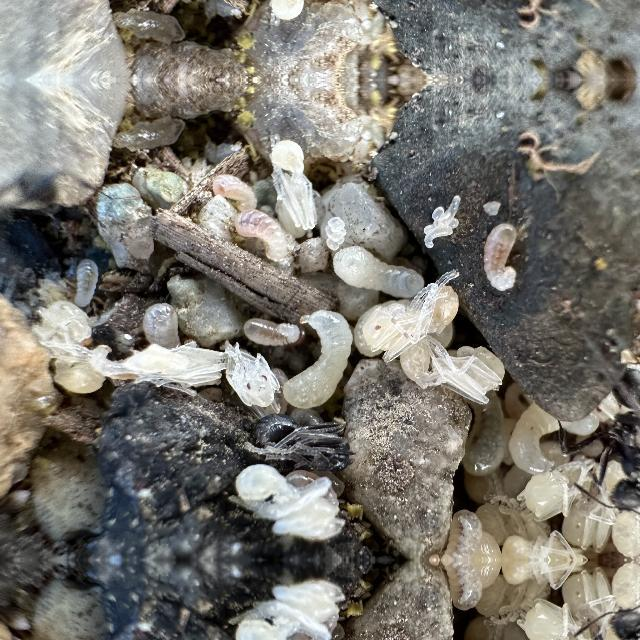Apheanogaster: (234, 399, 366, 477), (582, 390, 640, 520), (582, 598, 638, 640)
